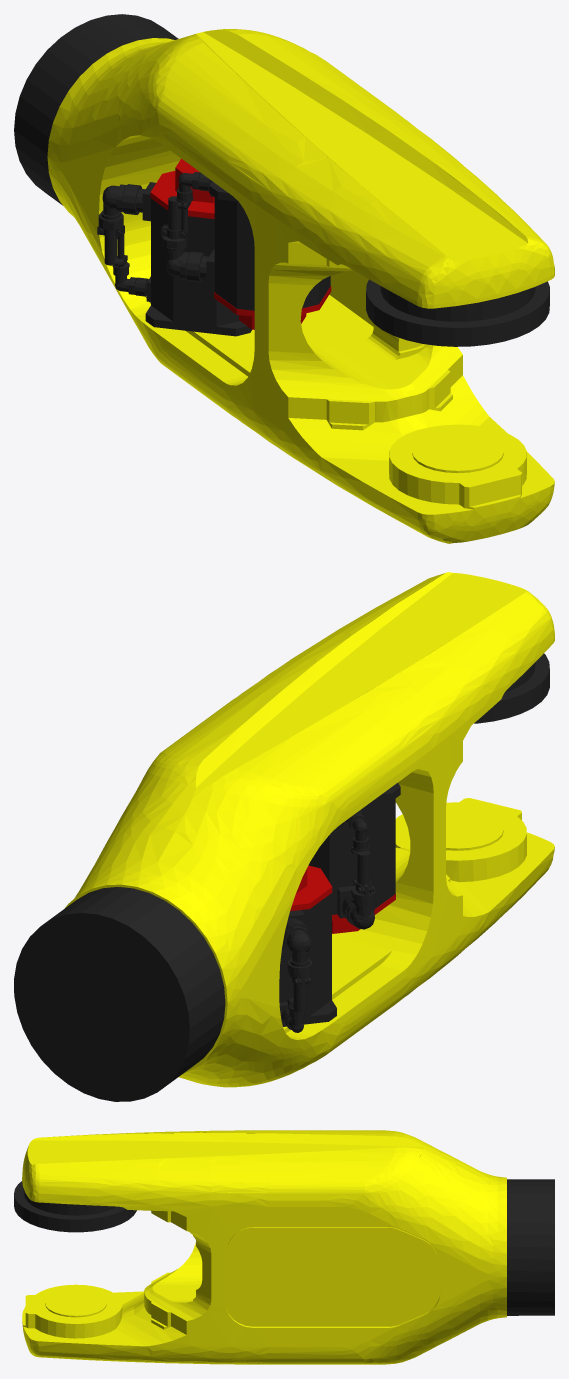
3 views of the same model, one above another, from view 1: azimuth 30°, elevation 25°; view 2: azimuth 150°, elevation 25°; view 3: azimuth 270°, elevation 25° (orthographic). The views are drawn at different scales.
Visible parts, largest first — view 1: node; view 2: node; view 3: node.
Boxes of the visible parts, x1=… form: node: x1=14, y1=14, x2=554, y2=543; node: x1=14, y1=572, x2=554, y2=1101; node: x1=14, y1=1130, x2=554, y2=1364.
Size of the model in its own units: 273 by 415 by 965.
